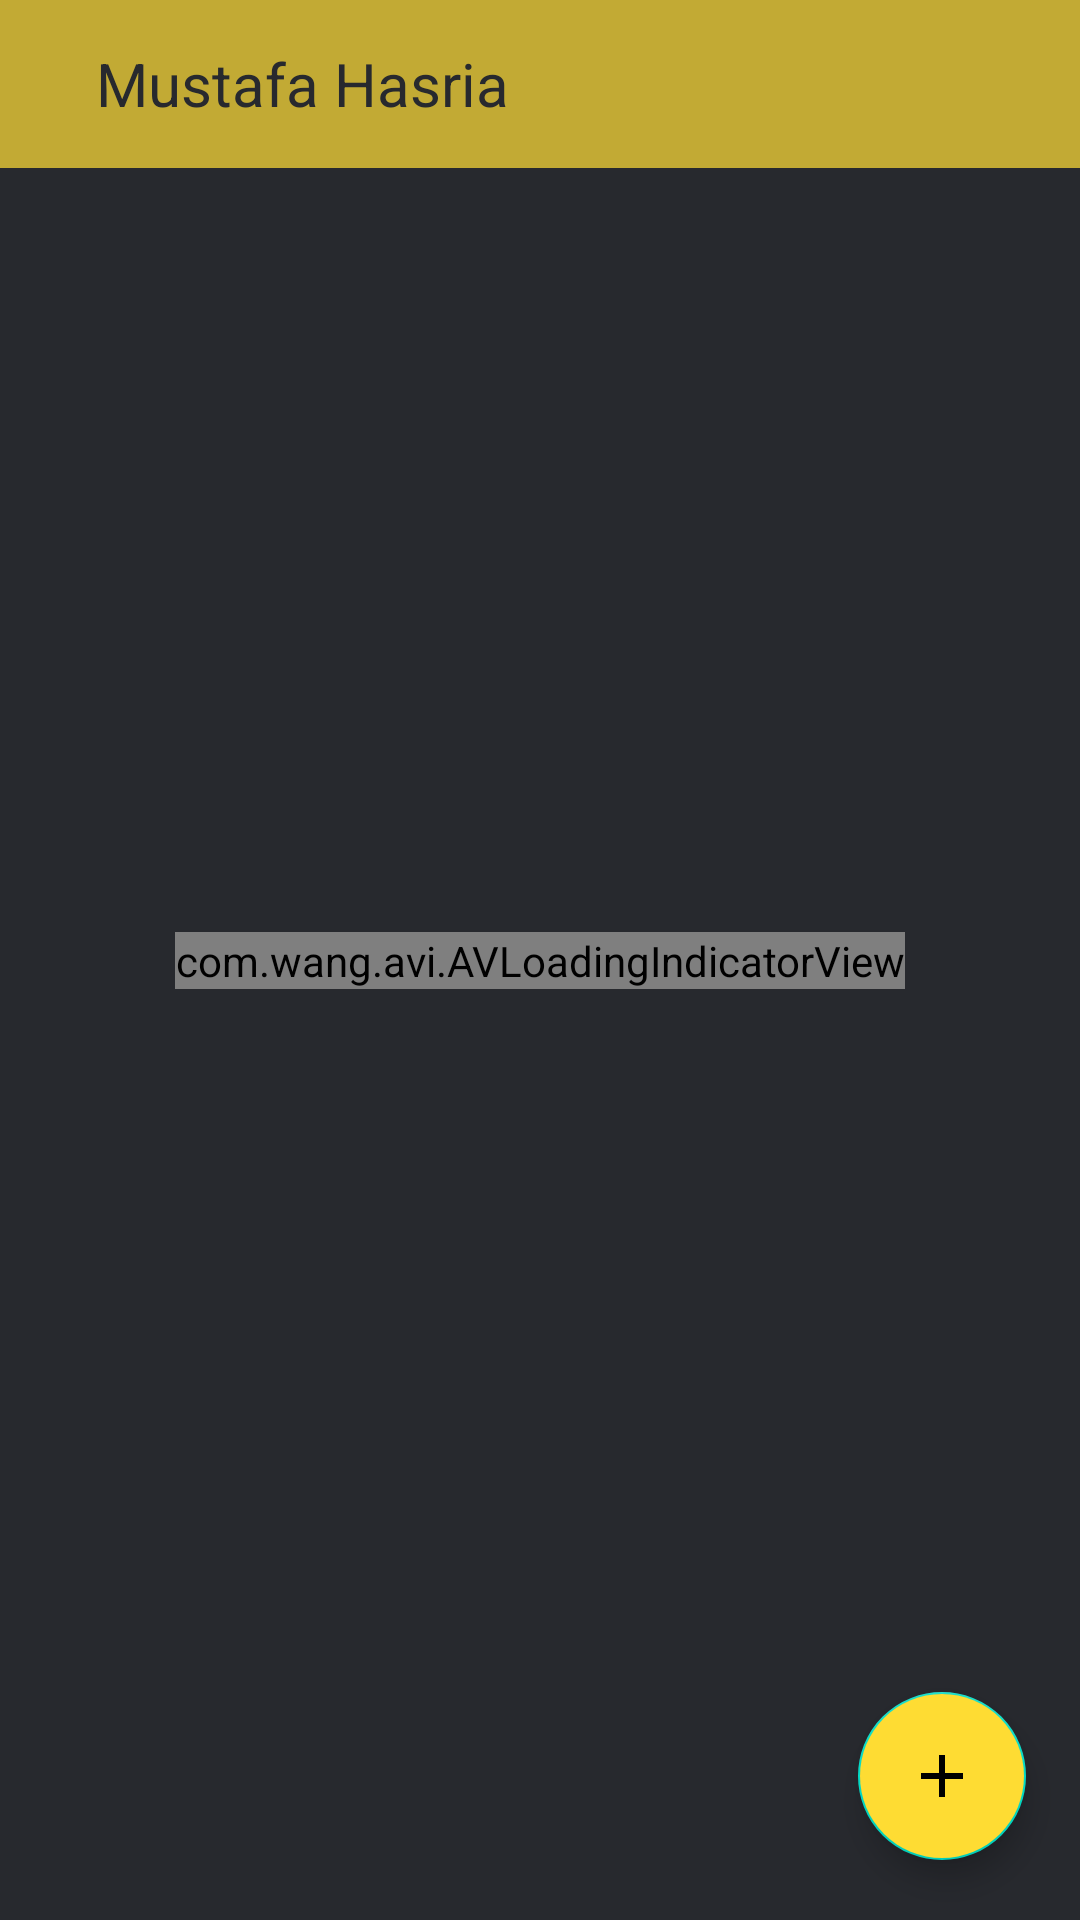

Icons on this 1080 x 1920 Android screen, each with its box as {"x1": x1, "y1": y1, "x2": x2, "y2": y2}:
add: {"x1": 858, "y1": 1692, "x2": 1026, "y2": 1860}
